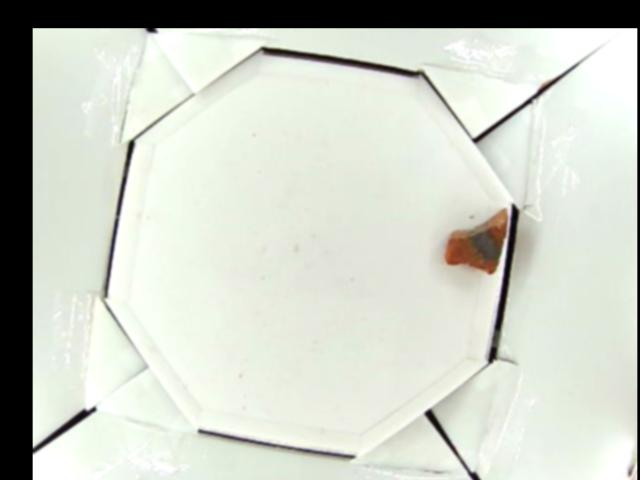Brisk: (443, 207, 508, 273)
